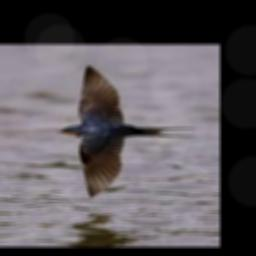Swallow: (58, 66, 197, 198)
